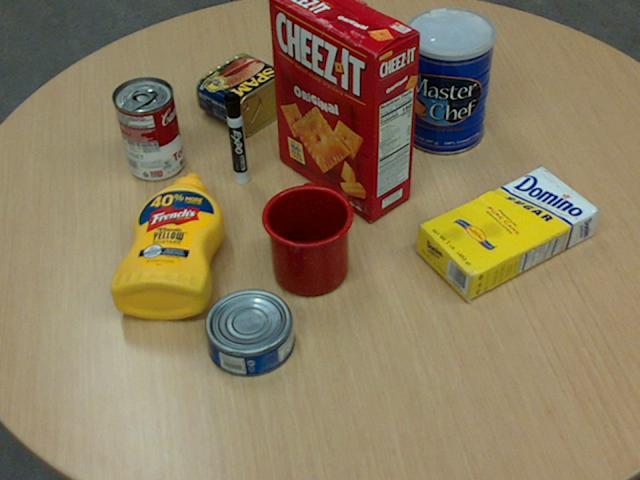cracker_box: (269, 0, 419, 218)
gelatin_box: (306, 45, 379, 106)
large_marker: (223, 91, 247, 184)
master_chef_can: (401, 8, 494, 155)
mug: (260, 184, 353, 295)
mustard_bottle: (109, 172, 223, 318)
potted_meat_can: (196, 53, 297, 135)
sugar_box: (415, 167, 599, 302)
tomato_soup_can: (112, 75, 183, 179)
tuna_fish_can: (204, 289, 294, 376)
